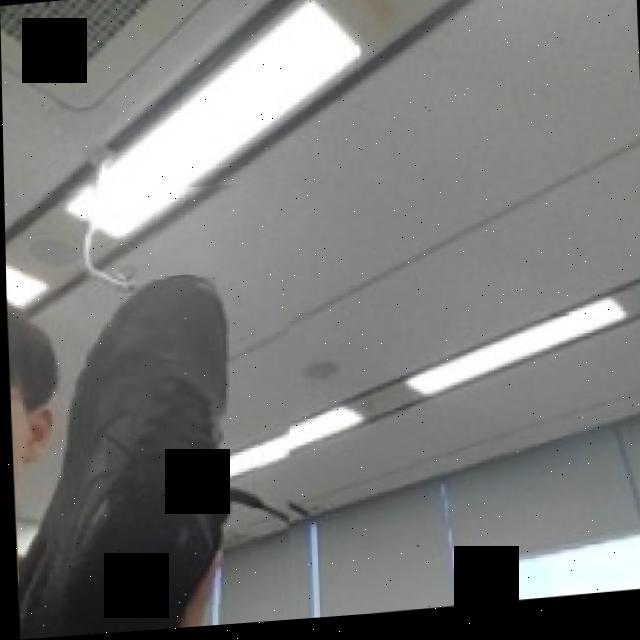shoe: (3, 175, 302, 640)
